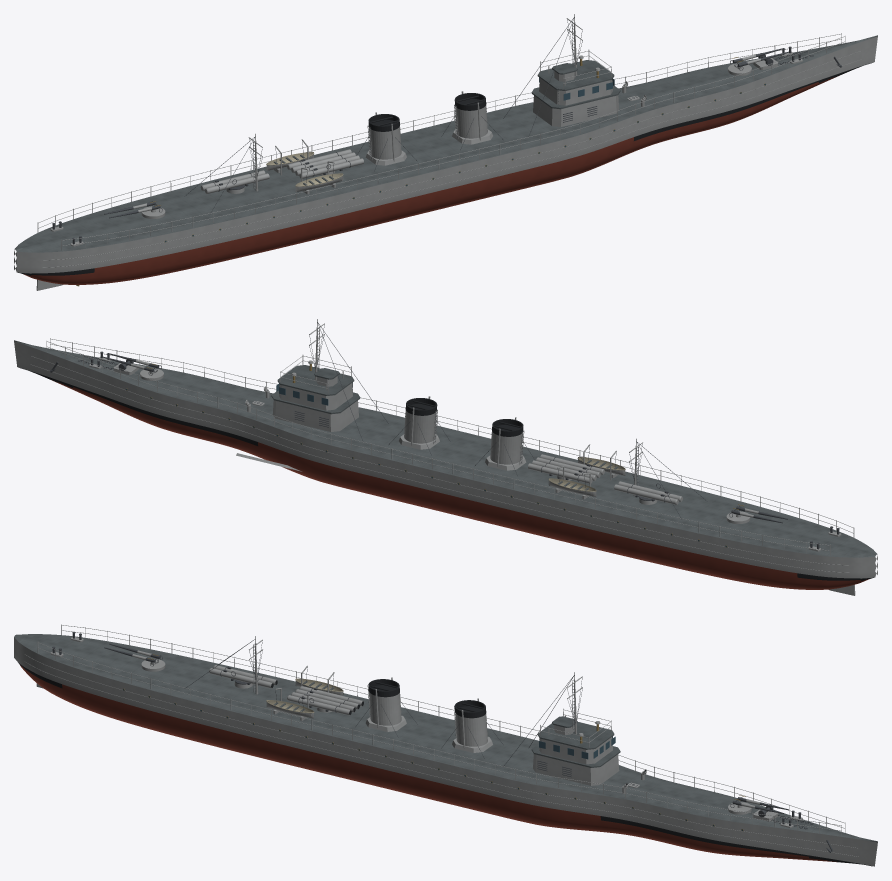
Rendered from curtatone.glb.
The picture shows the model from 3 angles, top to bottom: view 1: azimuth 30°, elevation 25°; view 2: azimuth 150°, elevation 25°; view 3: azimuth 330°, elevation 25°; orthographic projection.
Parts seen in each view (by area): view 1: Curtatone class; view 2: Curtatone class; view 3: Curtatone class.
Part boxes in pixels (x1,y1,x2,y2): Curtatone class: (14, 14, 877, 290); Curtatone class: (14, 319, 877, 595); Curtatone class: (14, 624, 877, 866).
Size of the model in its own units: 84.7 by 13.84 by 8.09.
Materials: 9 (8 with a texture image).
